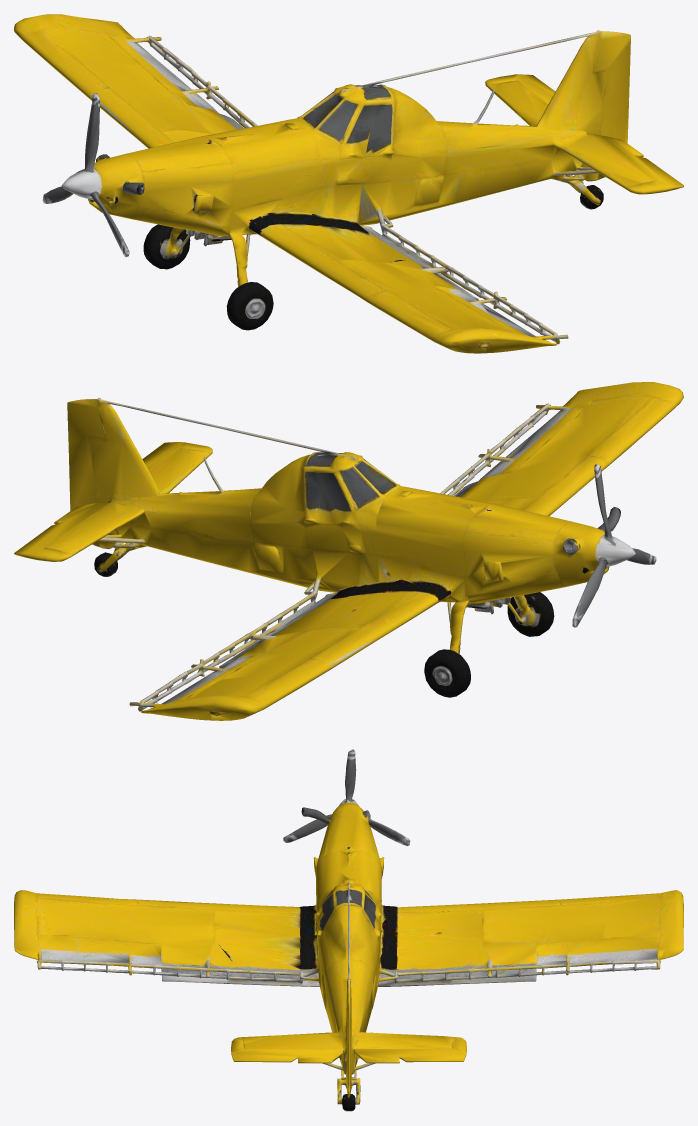
File: crop-duster.glb
3 renders of one model, top to bottom at view 1: azimuth 30°, elevation 25°; view 2: azimuth 150°, elevation 25°; view 3: azimuth 270°, elevation 25°, orthographic. The views are drawn at different scales.
Parts seen in each view (by area): view 1: Mesh_0; view 2: Mesh_0; view 3: Mesh_0.
Part boxes in pixels (<box>): Mesh_0: <box>14,14,683,353</box>; Mesh_0: <box>14,382,683,720</box>; Mesh_0: <box>14,749,683,1111</box>.
Bounding box in the file's own units: 5.98 × 2.34 × 8.
Materials: 1 (1 with a texture image).
